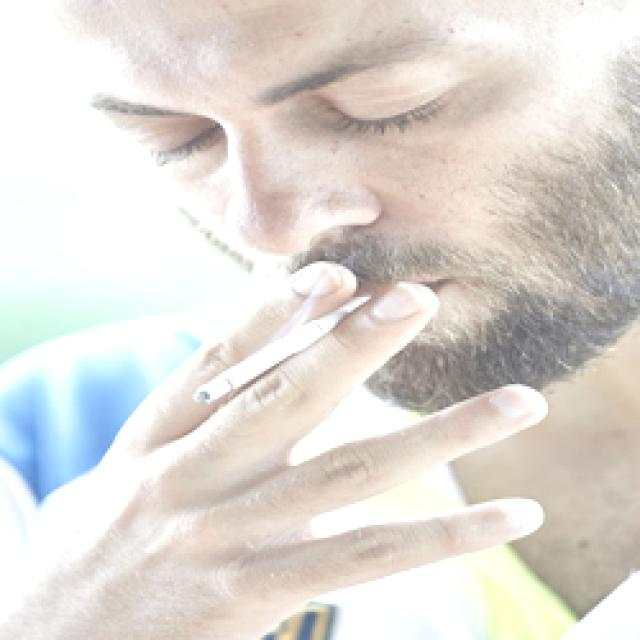Smooking: (138, 275, 413, 412)
